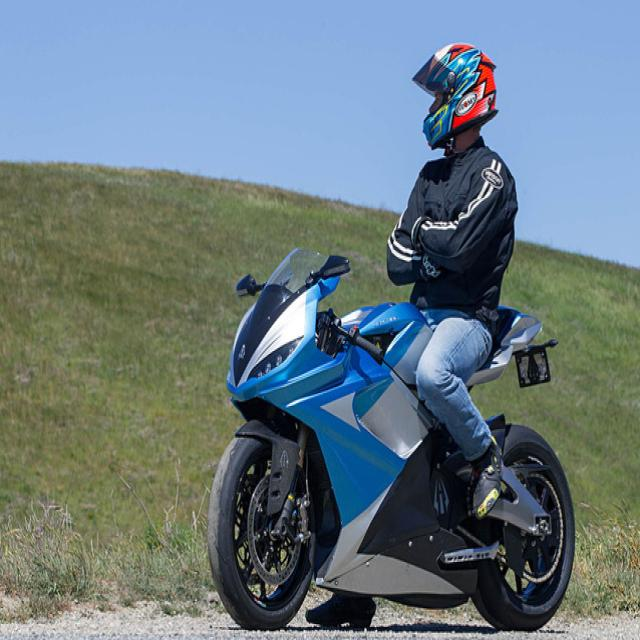helmet: (412, 43, 498, 150)
